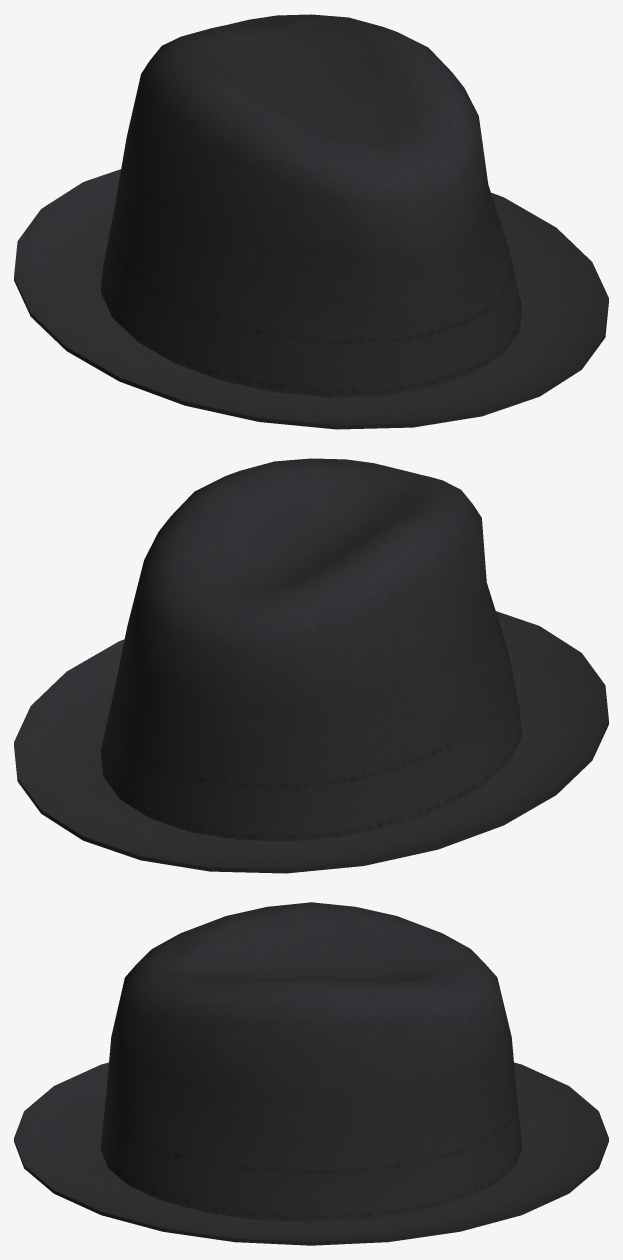
File: Hat.fbx
3 views of the same model, one above another, from view 1: azimuth 30°, elevation 25°; view 2: azimuth 150°, elevation 25°; view 3: azimuth 270°, elevation 25° (orthographic). The views are drawn at different scales.
Visible parts, largest first — view 1: Hat_LOD0; view 2: Hat_LOD0; view 3: Hat_LOD0.
Part boxes in pixels (bbox=[...]): Hat_LOD0: bbox=[14, 14, 608, 429]; Hat_LOD0: bbox=[14, 458, 608, 873]; Hat_LOD0: bbox=[14, 902, 608, 1245].
Size of what is drawn, in the model's own units: 26.7 by 12.47 by 32.24.
